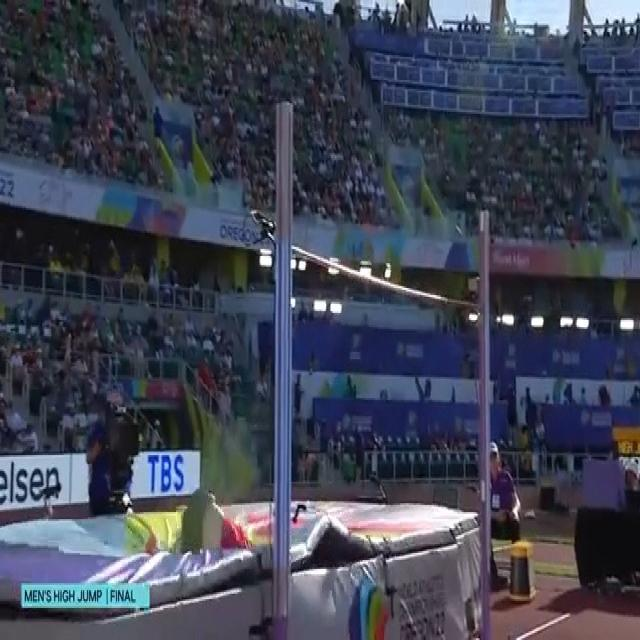land: (143, 471, 254, 557)
